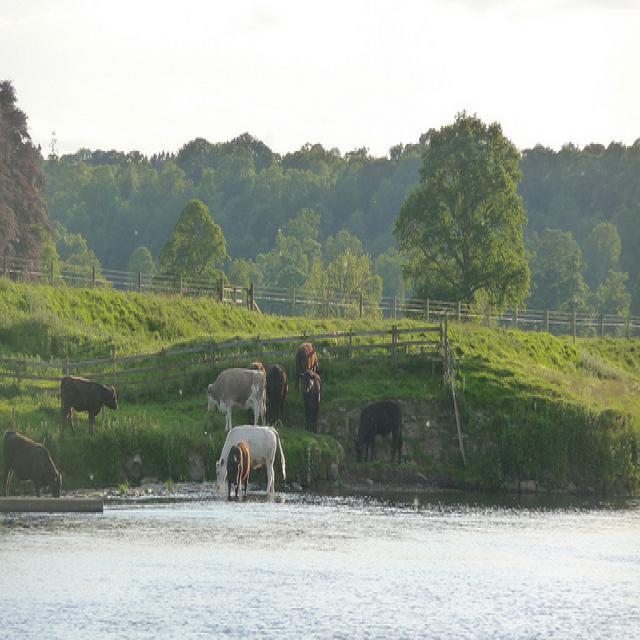cow: (214, 423, 284, 493), (0, 427, 62, 494), (203, 367, 265, 429), (58, 372, 116, 436), (352, 398, 402, 464), (225, 437, 250, 498), (265, 359, 287, 423), (292, 340, 316, 397), (300, 368, 320, 430), (247, 356, 266, 411)
